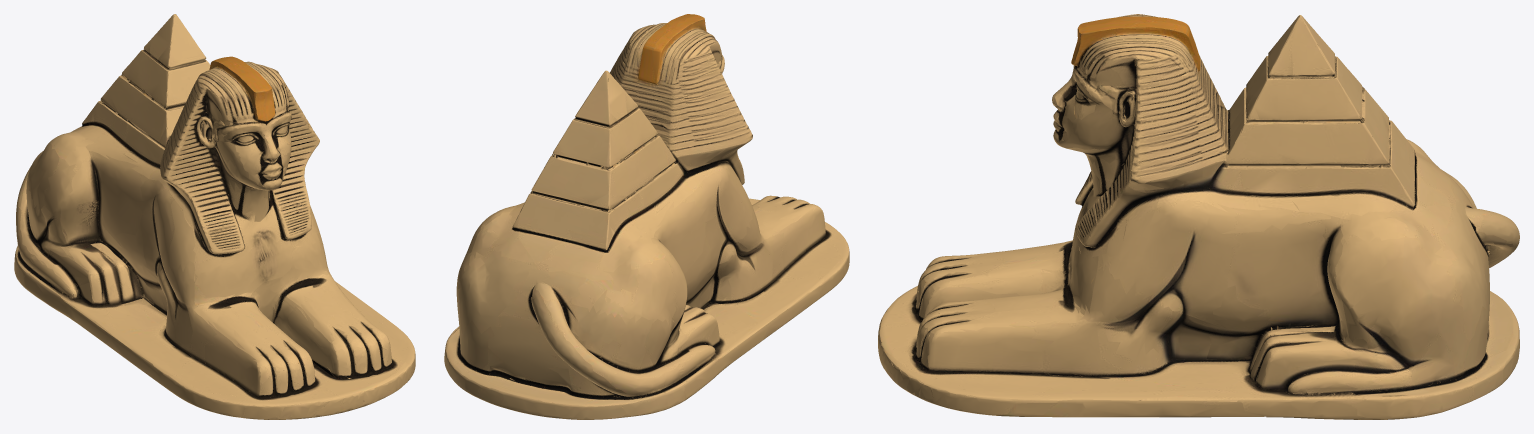
Rendered from great_sphinx.glb.
3 views of the same model, side by side, from view 1: azimuth 30°, elevation 25°; view 2: azimuth 150°, elevation 25°; view 3: azimuth 270°, elevation 25° (orthographic). The views are drawn at different scales.
Bounding box in the file's own units: 0.9643 × 1.1 × 1.9.
1 material, 1 textured.
